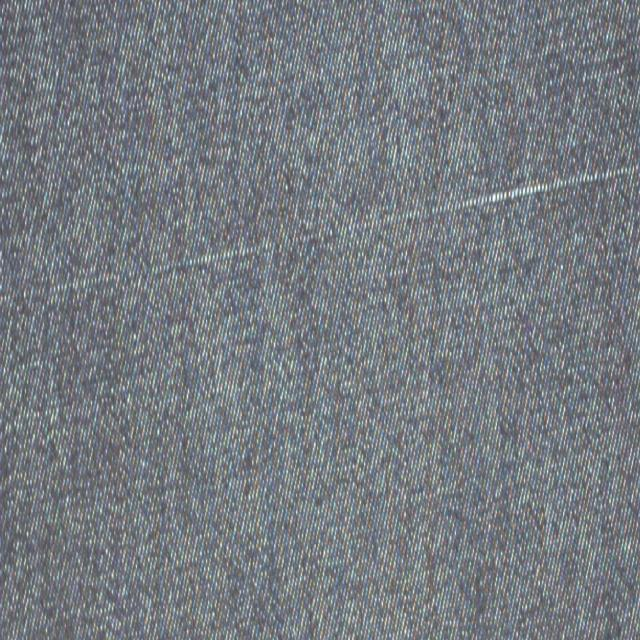Line: (0, 157, 640, 310)
